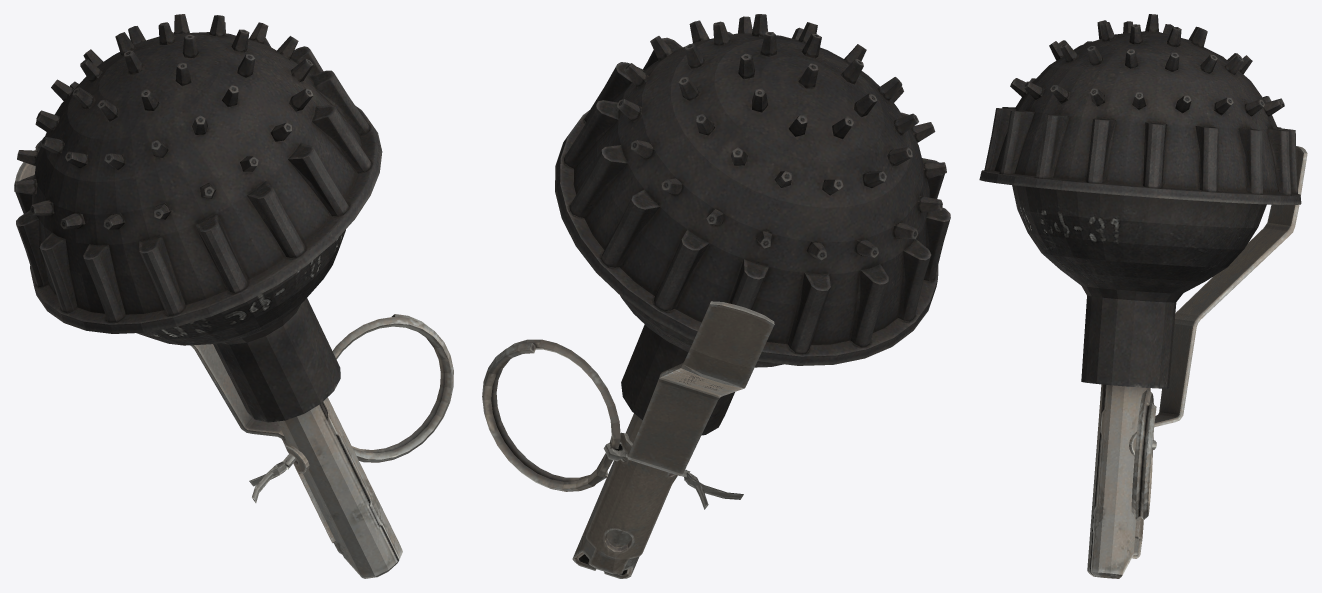
The picture shows the model from 3 angles, left to right: view 1: azimuth 30°, elevation 25°; view 2: azimuth 150°, elevation 25°; view 3: azimuth 270°, elevation 25°; orthographic projection. The views are drawn at different scales.
Parts seen in each view (by area): view 1: TW_5a0c27731526d80618476ac4_PZ_Import; view 2: TW_5a0c27731526d80618476ac4_PZ_Import; view 3: TW_5a0c27731526d80618476ac4_PZ_Import.
Boxes of the visible parts, left/top/right/bottom form: TW_5a0c27731526d80618476ac4_PZ_Import: left=14, top=14, right=453, bottom=578; TW_5a0c27731526d80618476ac4_PZ_Import: left=482, top=14, right=950, bottom=578; TW_5a0c27731526d80618476ac4_PZ_Import: left=979, top=14, right=1307, bottom=578.
Bounding box in the file's own units: 0.0504 × 0.0404 × 0.0658.
Materials: 1 (1 with a texture image).
